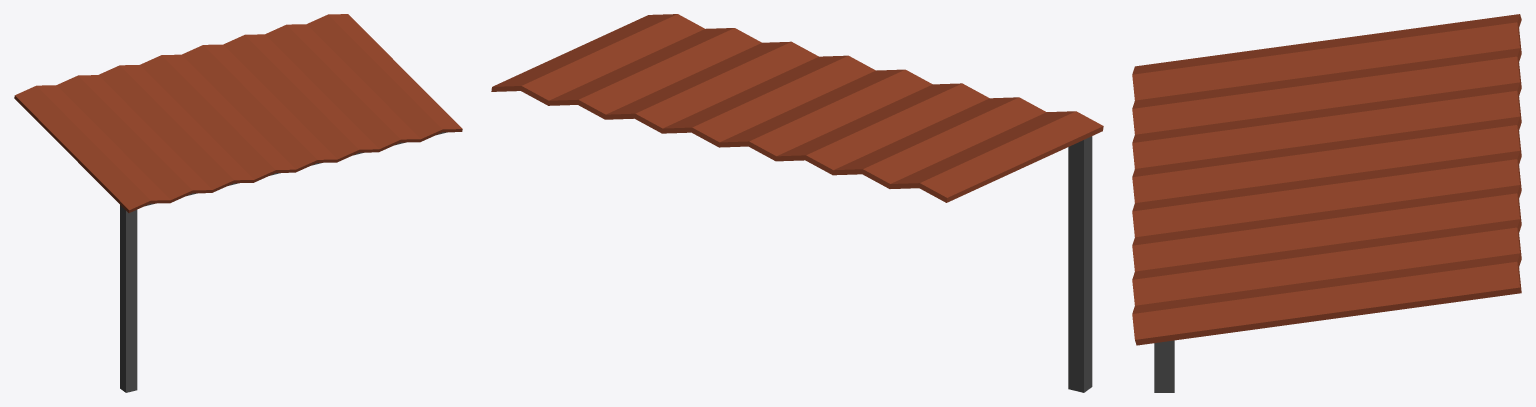
The model's file is SmallRoof_02.fbx.
3 renders of one model, left to right at view 1: azimuth 30°, elevation 25°; view 2: azimuth 150°, elevation 25°; view 3: azimuth 270°, elevation 25°, orthographic. The views are drawn at different scales.
Visible parts, largest first — view 1: SmallRoof_02; view 2: SmallRoof_02; view 3: SmallRoof_02.
Part boxes in pixels (x1,y1,x2,y2): SmallRoof_02: (14,14,462,392); SmallRoof_02: (491,14,1103,392); SmallRoof_02: (1132,14,1521,392).
Size of the model in its own units: 500 by 321 by 301.
